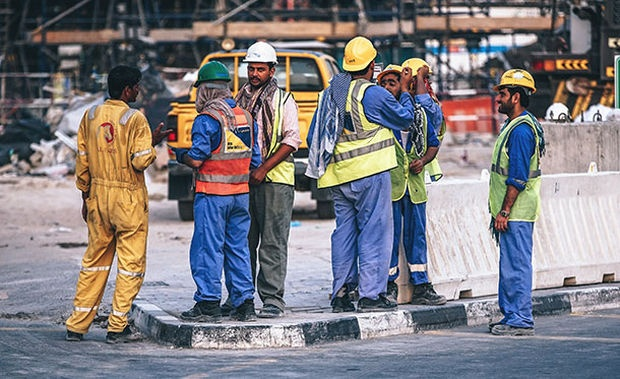none: (105, 64, 142, 103)
white: (245, 41, 276, 85)
yellow: (495, 68, 537, 115), (341, 37, 378, 79), (376, 64, 409, 99), (401, 59, 430, 91)
